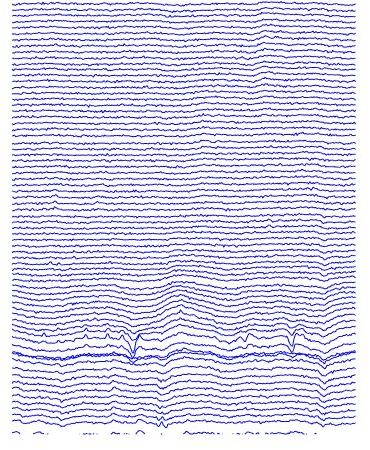defect: (282, 323, 304, 361), (123, 326, 142, 369)
